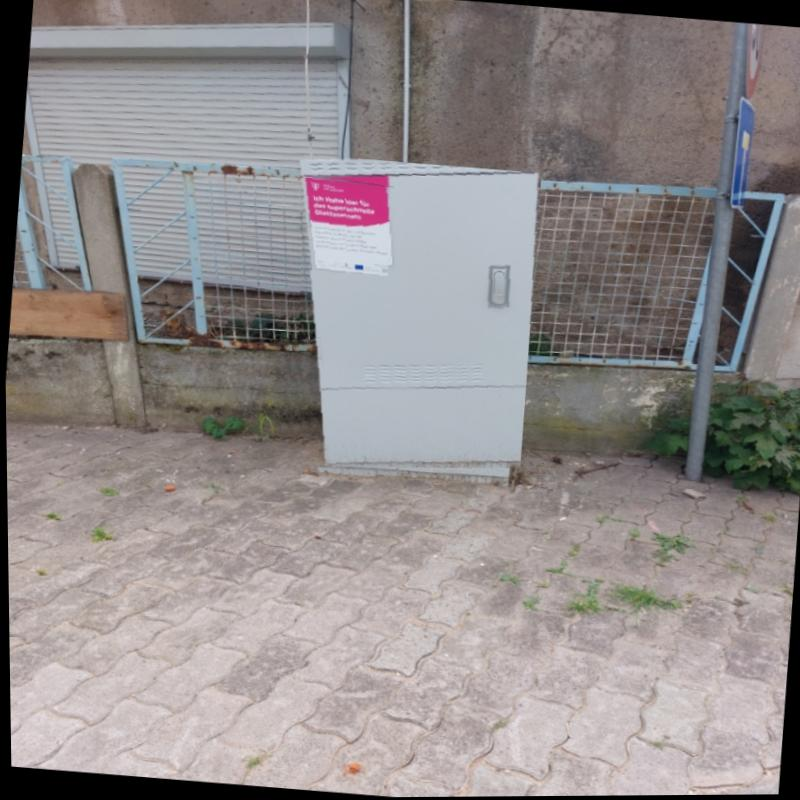NT-Gehause: (297, 158, 541, 473)
Steaker: (303, 179, 391, 277)
